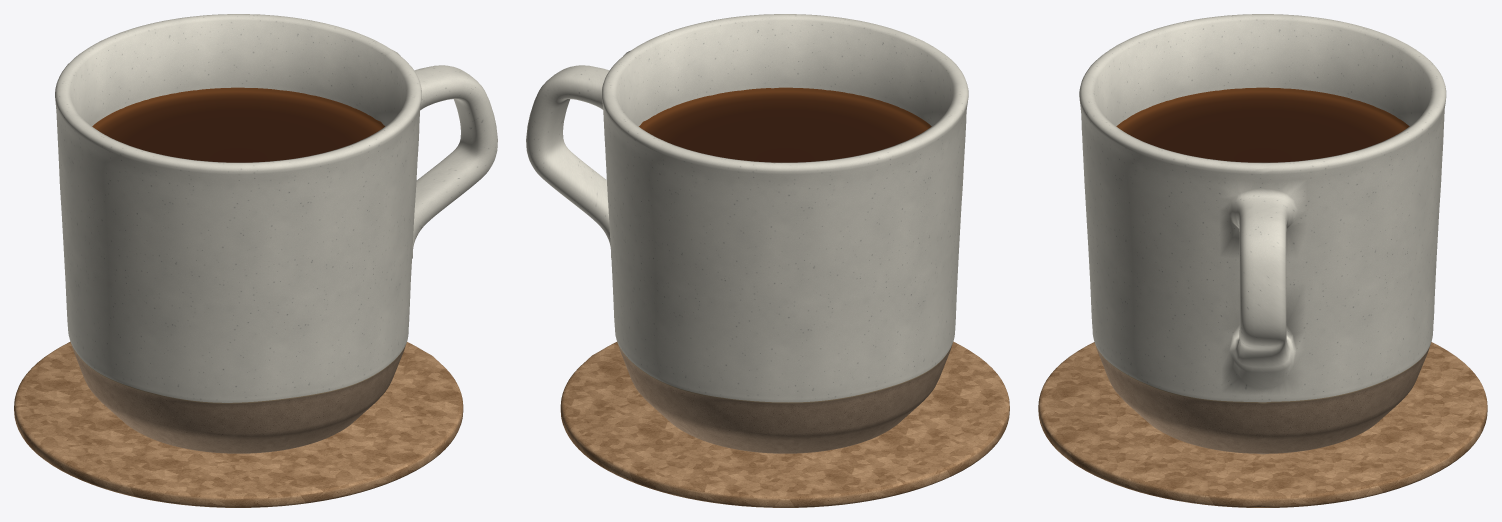
File: kinto-clk-151.glb
3 renders of one model, left to right at view 1: azimuth 30°, elevation 25°; view 2: azimuth 150°, elevation 25°; view 3: azimuth 270°, elevation 25°, orthographic.
Parts seen in each view (by area): view 1: CLK-151 · glazed vessel and pulled strap, Cork coaster · eased edge, Tea meniscus; view 2: CLK-151 · glazed vessel and pulled strap, Cork coaster · eased edge, Tea meniscus; view 3: CLK-151 · glazed vessel and pulled strap, Cork coaster · eased edge, Tea meniscus.
Part boxes in pixels (x1,y1,x2,y2): CLK-151 · glazed vessel and pulled strap: (55,14,497,453); Cork coaster · eased edge: (14,341,463,507); Tea meniscus: (92,87,384,162); CLK-151 · glazed vessel and pulled strap: (526,14,968,453); Cork coaster · eased edge: (560,341,1009,507); Tea meniscus: (639,87,931,162); CLK-151 · glazed vessel and pulled strap: (1079,14,1446,454); Cork coaster · eased edge: (1038,342,1487,507); Tea meniscus: (1116,87,1409,162).
Bounding box in the file's own units: 0.1195 × 0.0831 × 0.104.
5 materials, 3 textured.
